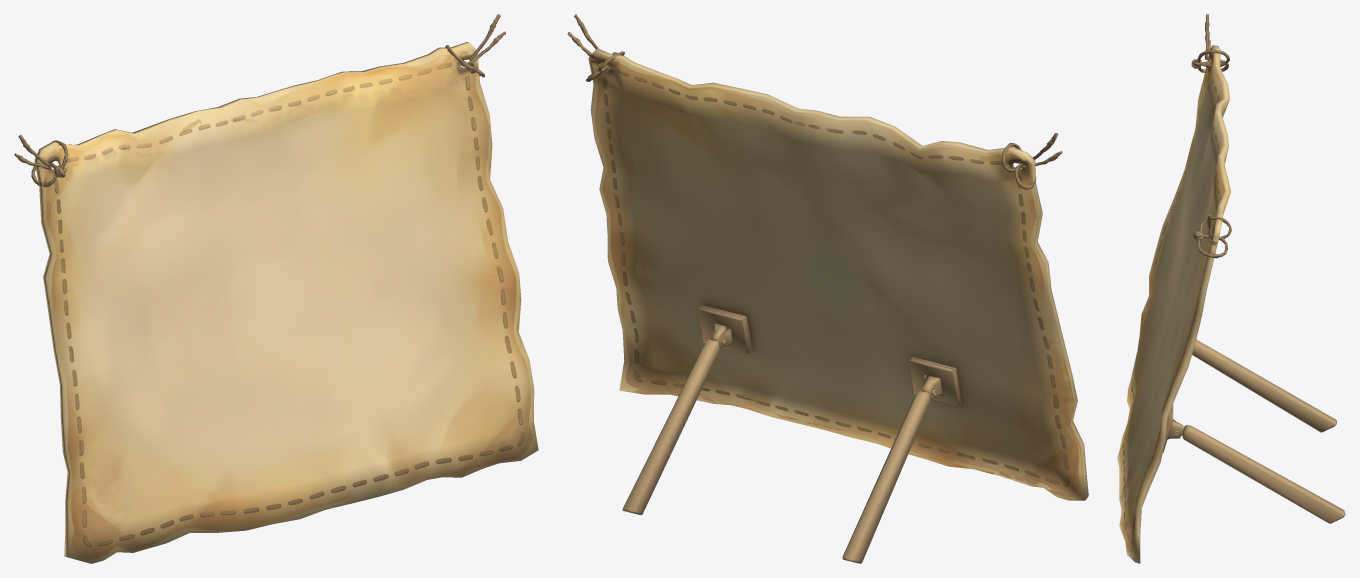
The model's file is Table_Paper2.glb.
3 renders of one model, left to right at view 1: azimuth 30°, elevation 25°; view 2: azimuth 150°, elevation 25°; view 3: azimuth 270°, elevation 25°, orthographic. The views are drawn at different scales.
Parts seen in each view (by area): view 1: tripo_node_1c5aa6ce-ea00-44de-831a-f4889af1fcdc; view 2: tripo_node_1c5aa6ce-ea00-44de-831a-f4889af1fcdc; view 3: tripo_node_1c5aa6ce-ea00-44de-831a-f4889af1fcdc.
Part boxes in pixels (bbox=[...]): tripo_node_1c5aa6ce-ea00-44de-831a-f4889af1fcdc: bbox=[14, 14, 538, 563]; tripo_node_1c5aa6ce-ea00-44de-831a-f4889af1fcdc: bbox=[567, 14, 1088, 563]; tripo_node_1c5aa6ce-ea00-44de-831a-f4889af1fcdc: bbox=[1117, 14, 1345, 563].
Bounding box in the file's own units: 0.998 × 0.8105 × 0.4629.
Materials: 1 (1 with a texture image).
